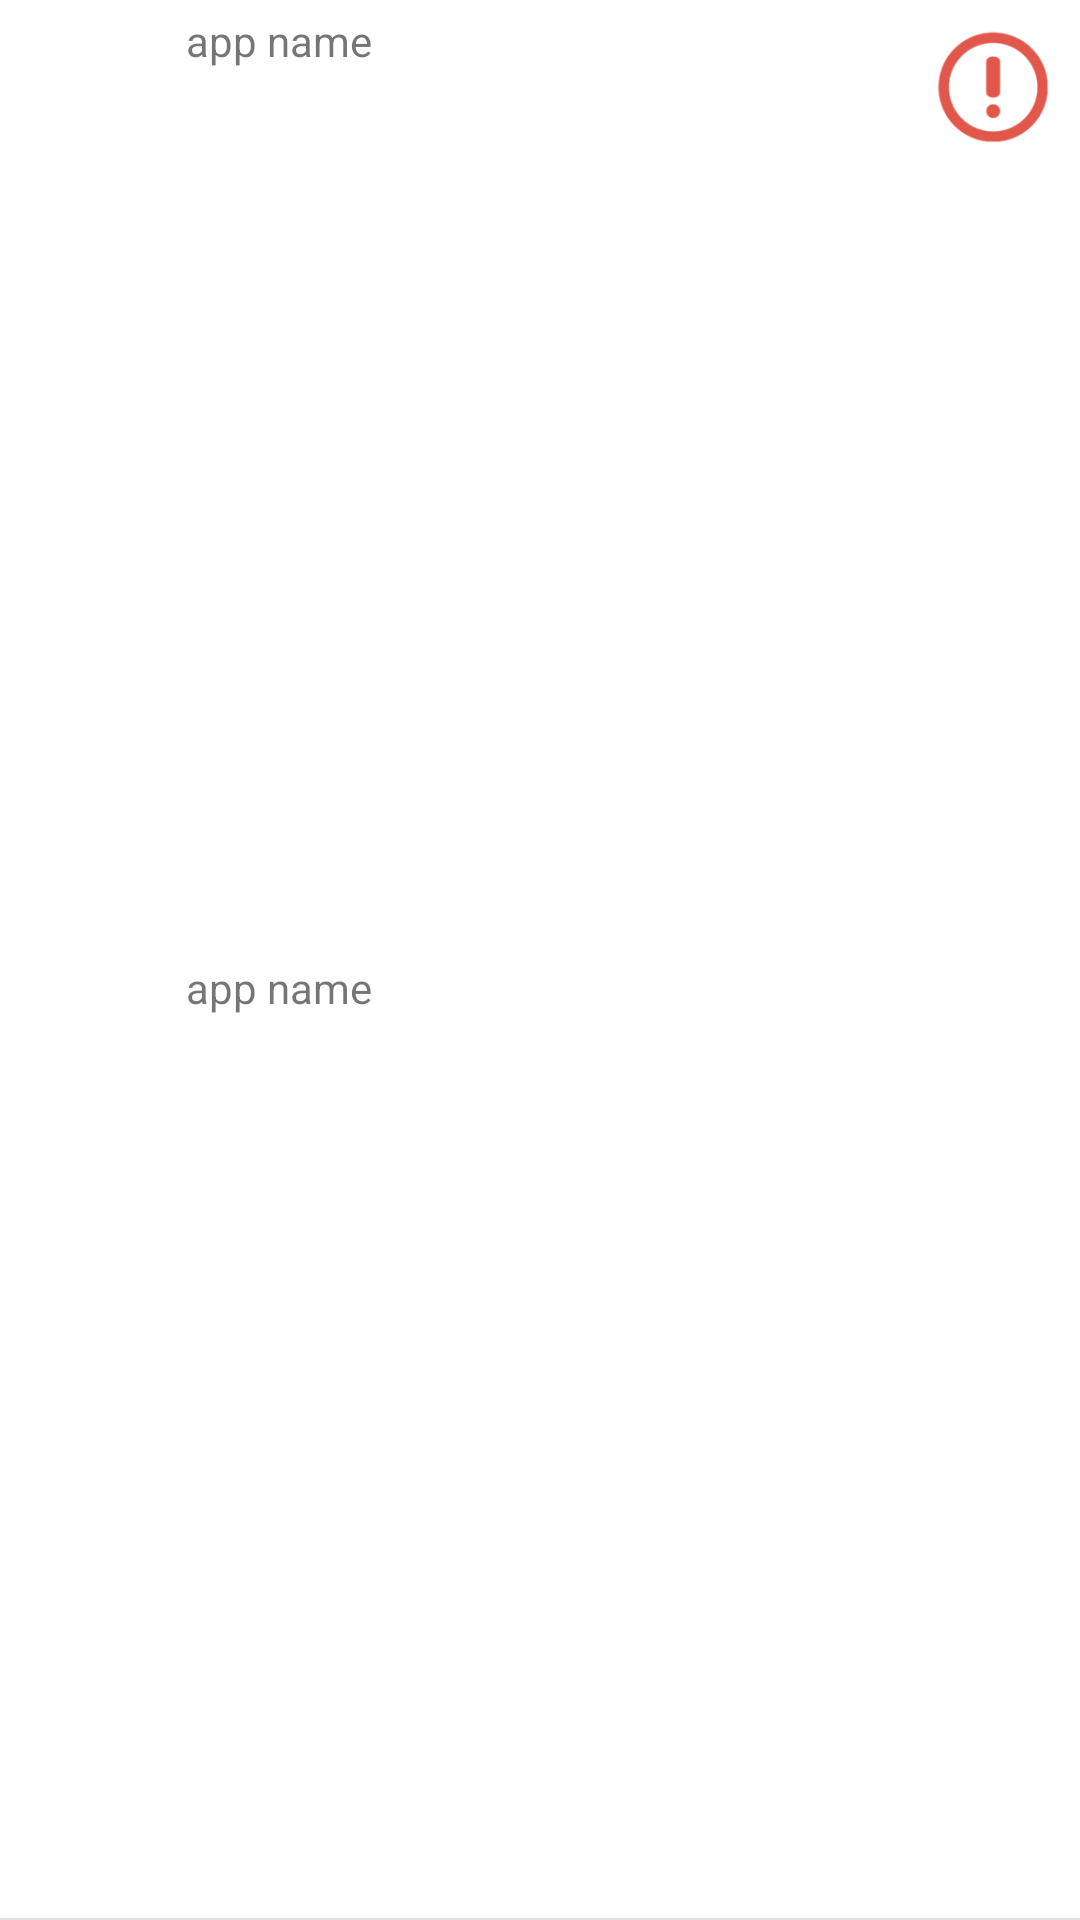

Locate icon controls on the screen. Image size 1080w x 1920h, boxes as bbox(x1, y1, x2, y2).
tanhao: bbox(938, 32, 1048, 142)
